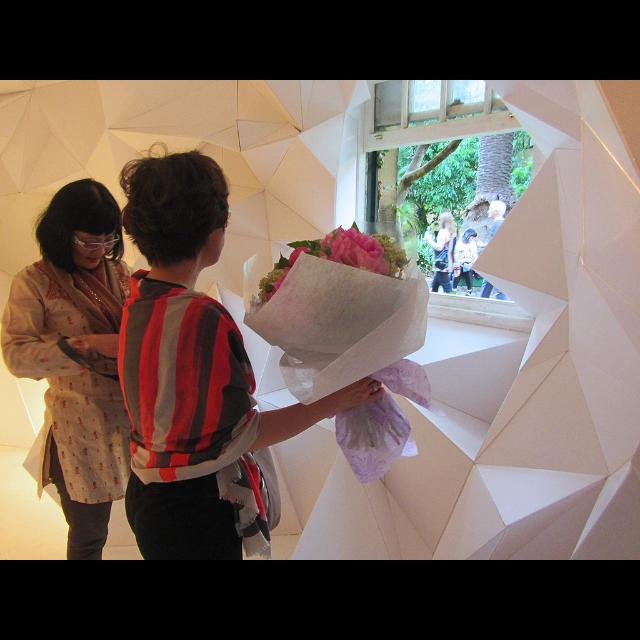Flower: (252, 225, 408, 313), (325, 231, 389, 275)
